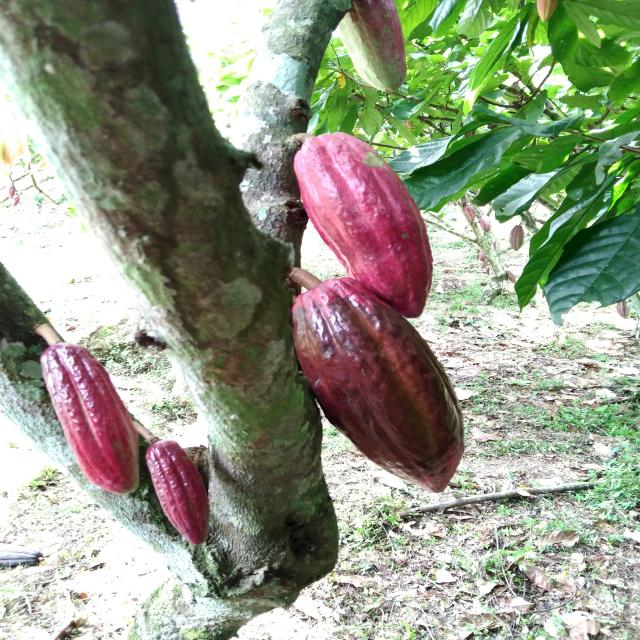Fitoftora: (280, 274, 485, 493)
Sana: (280, 130, 449, 320), (31, 339, 144, 499), (136, 435, 227, 550), (338, 0, 415, 93)
